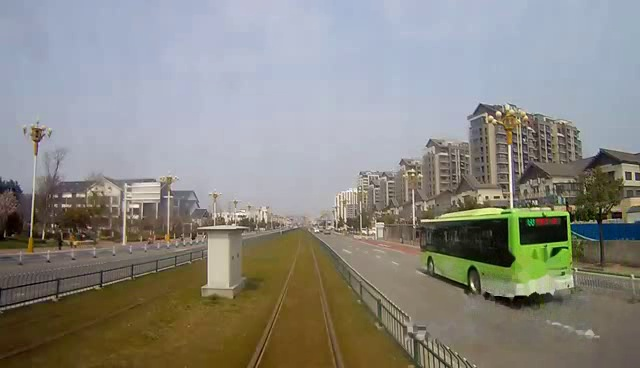bus: (416, 205, 586, 303)
